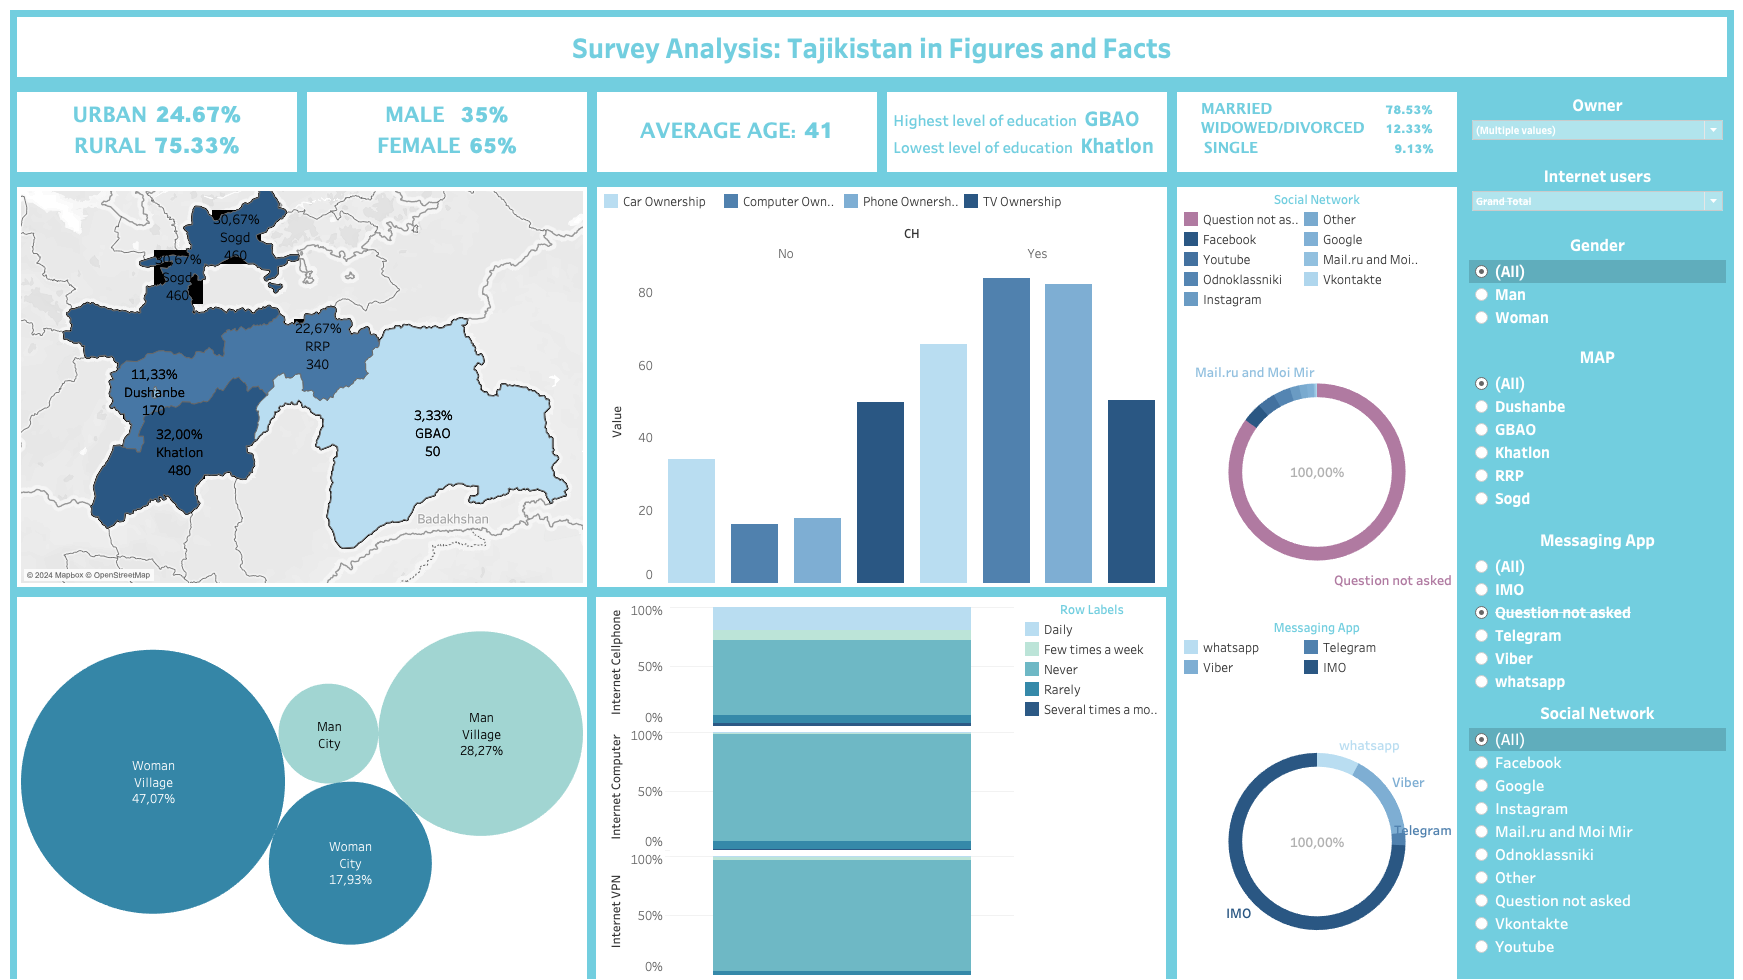

Layout of this report page (visuals, bound fields, positions):
{"tool":"tableau","page":{"name":"Dashboard 1","canvas":[1740,985],"ordinal":0},"visuals":[{"type":"text","box":[15,15,1710,60]},{"type":"filter","title":"OWNER","param":"[federated.0xajm4d0slh27f1754pvn0ty6igz].[:Measure Names]","box":[1463,88,265,71]},{"type":"text","box":[15,90,280,80]},{"type":"text","box":[305,90,280,80]},{"type":"text","box":[595,90,280,80]},{"type":"text","box":[885,90,280,80]},{"type":"text","box":[1175,90,280,80]},{"type":"filter","title":"DeagammINTER","param":"[federated.00ojtro1chazmd150mjbm0z50uvf].[none:Row Labels:nk]","box":[1463,159,265,69]},{"type":"worksheet","title":"MAP","mark":"Multipolygon","box":[15,185,570,400]},{"type":"legend","title":"OWNER","param":"[federated.0xajm4d0slh27f1754pvn0ty6igz].[:Measure Names]","box":[595,185,570,32]},{"type":"legend","title":"SocialNET","param":"[federated.0ng7tri1lbxh0u1a6rukz1s6ifyv].[none:Social_Network:nk]","box":[1175,185,280,143]},{"type":"worksheet","title":"OWNER","mark":"Automatic","cols":["CH"],"box":[595,217,570,368]},{"type":"filter","title":"GENDER","param":"[federated.05u5ryr0mf11os1a907oi1e5qavm].[none:Gender:nk]","box":[1463,228,265,112]},{"type":"worksheet","title":"SocialNET","mark":"Pie","cols":["Calculation_815081219605000197","Calculation_815081219606687751"],"box":[1175,328,280,284.5]},{"type":"filter","title":"MAP","param":"[federated.05u5ryr0mf11os1a907oi1e5qavm].[none:Region:nk]","box":[1463,340,265,183]},{"type":"filter","title":"SocialNET (2)","param":"[federated.0ng7tri1lbxh0u1a6rukz1s6ifyv].[none:Messaging_App:nk]","box":[1463,523,265,173]},{"type":"worksheet","title":"GENDER","mark":"Circle","box":[15,595,570,382]},{"type":"worksheet","title":"DeagammINTER","mark":"Automatic","box":[594,595,422,382]},{"type":"legend","title":"DeagammINTER","param":"[federated.00ojtro1chazmd150mjbm0z50uvf].[none:Row Labels:nk]","box":[1016,595,148,382]},{"type":"legend","title":"SocialNET (2)","param":"[federated.0ng7tri1lbxh0u1a6rukz1s6ifyv].[none:Messaging_App:nk]","box":[1175,612.5,280,85]},{"type":"filter","title":"SocialNET","param":"[federated.0ng7tri1lbxh0u1a6rukz1s6ifyv].[none:Social_Network:nk]","box":[1463,696,265,265]},{"type":"worksheet","title":"SocialNET (2)","mark":"Pie","cols":["Calculation_815081219605000197","Calculation_815081219606687751"],"box":[1175,697.5,280,284.5]}]}

Visuals, with their boxes in screenshot pixels (x1, y1, x2, y2), scaled from the page's 1740x985 canvas onto the 1743x980 screenshot:
text: 15,15,1728,75
"OWNER" filter: 1466,88,1731,158
text: 15,90,296,169
text: 306,90,586,169
text: 596,90,877,169
text: 887,90,1167,169
text: 1177,90,1458,169
"DeagammINTER" filter: 1466,158,1731,227
"MAP" worksheet (Multipolygon marks): 15,184,586,582
"OWNER" legend: 596,184,1167,216
"SocialNET" legend: 1177,184,1458,326
"OWNER" worksheet: 596,216,1167,582
"GENDER" filter: 1466,227,1731,338
"SocialNET" worksheet (Pie marks): 1177,326,1458,609
"MAP" filter: 1466,338,1731,520
"SocialNET (2)" filter: 1466,520,1731,692
"GENDER" worksheet (Circle marks): 15,592,586,972
"DeagammINTER" worksheet: 595,592,1018,972
"DeagammINTER" legend: 1018,592,1166,972
"SocialNET (2)" legend: 1177,609,1458,694
"SocialNET" filter: 1466,692,1731,956
"SocialNET (2)" worksheet (Pie marks): 1177,694,1458,977
